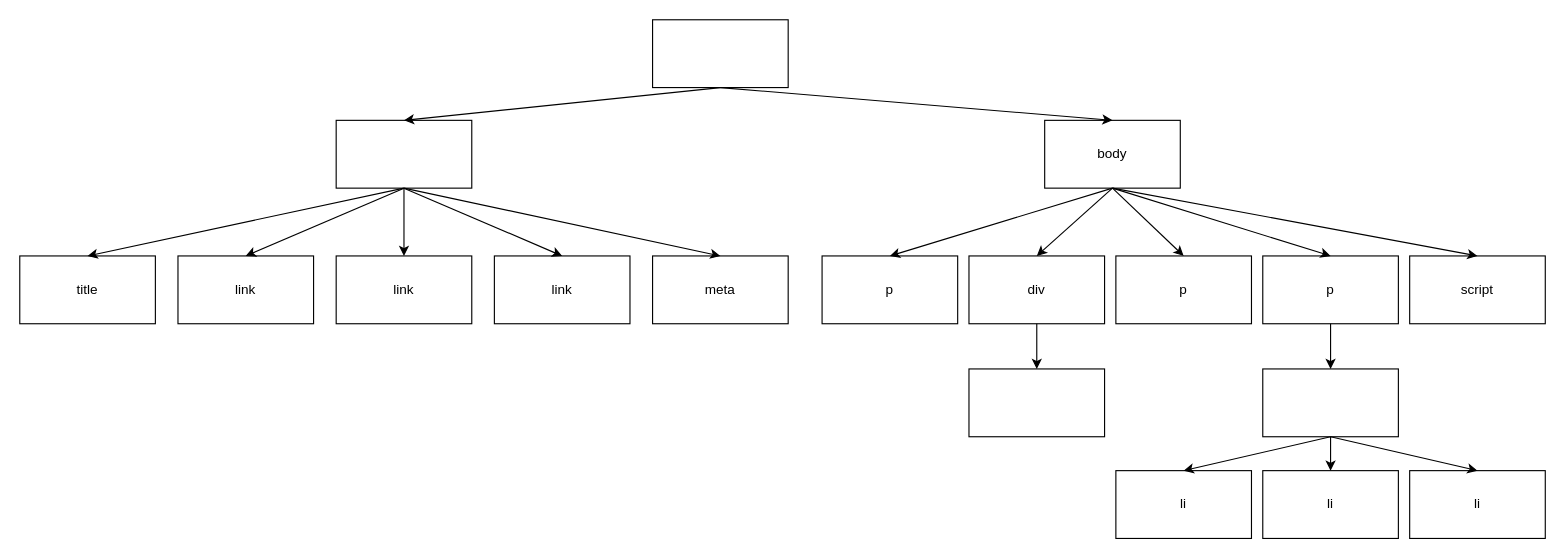
This 1565x558 diagram has some shape labels left out. Here are the shapes that lost their labels. From the top down, the box of each, then its label:
(651, 19, 788, 88): html
(335, 119, 472, 188): head
(968, 368, 1105, 437): img
(1262, 368, 1398, 437): ul
